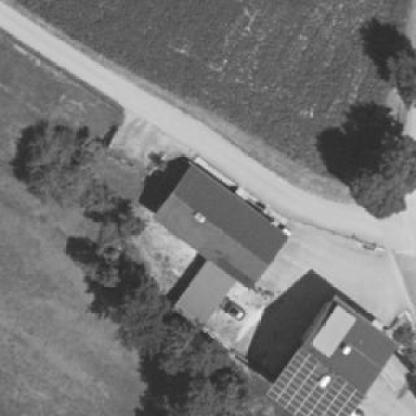solar-pv-panel: (265, 348, 365, 416)
